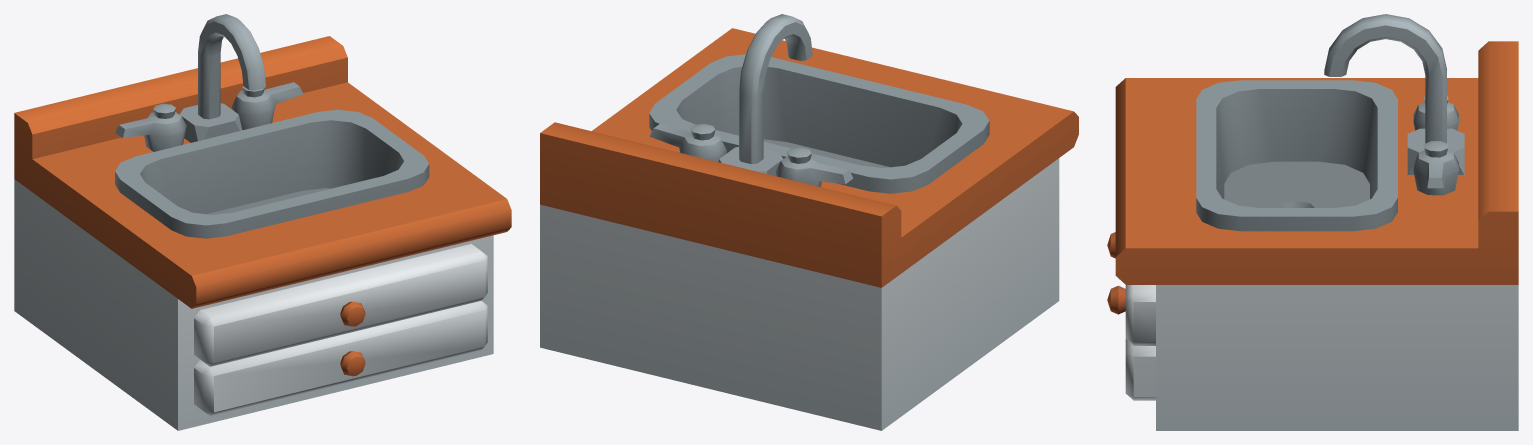
Rendered from kitchencounter_sink_backsplash.glb.
3 renders of one model, left to right at view 1: azimuth 30°, elevation 25°; view 2: azimuth 150°, elevation 25°; view 3: azimuth 270°, elevation 25°, orthographic. The views are drawn at different scales.
Visible parts, largest first — view 1: kitchencounter_sink_backsplash; view 2: kitchencounter_sink_backsplash; view 3: kitchencounter_sink_backsplash.
Part boxes in pixels (x1,y1,x2,y2): kitchencounter_sink_backsplash: (14,14,511,430); kitchencounter_sink_backsplash: (540,14,1078,430); kitchencounter_sink_backsplash: (1107,14,1518,430).
Size of the model in its own units: 2 by 1.8 by 2.04.
Materials: 1 (1 with a texture image).
